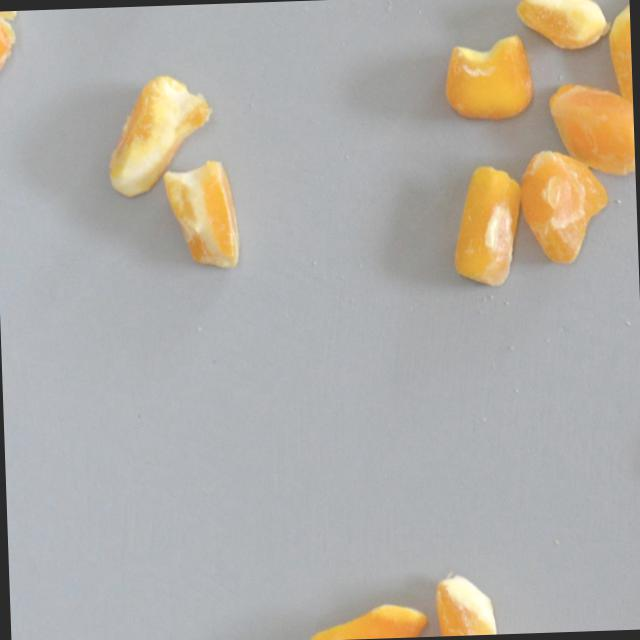dañado: (103, 68, 216, 200), (516, 145, 612, 268), (448, 159, 525, 291), (542, 73, 635, 179), (160, 158, 242, 273), (439, 29, 538, 123), (431, 562, 508, 636), (301, 597, 429, 640), (511, 0, 612, 52), (603, 0, 633, 114), (0, 10, 26, 98)
